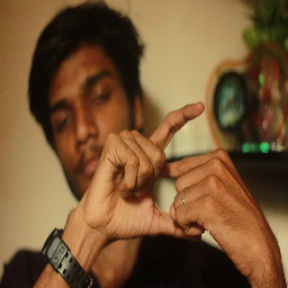E: (145, 100, 222, 240)
